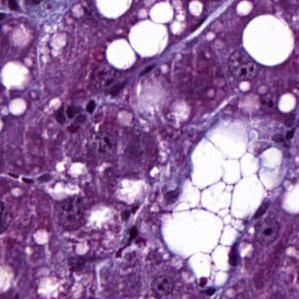ballooning: (159, 113, 287, 296)
